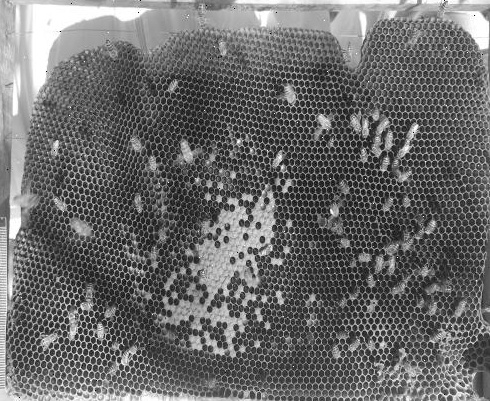cria: (111, 114, 330, 390)
